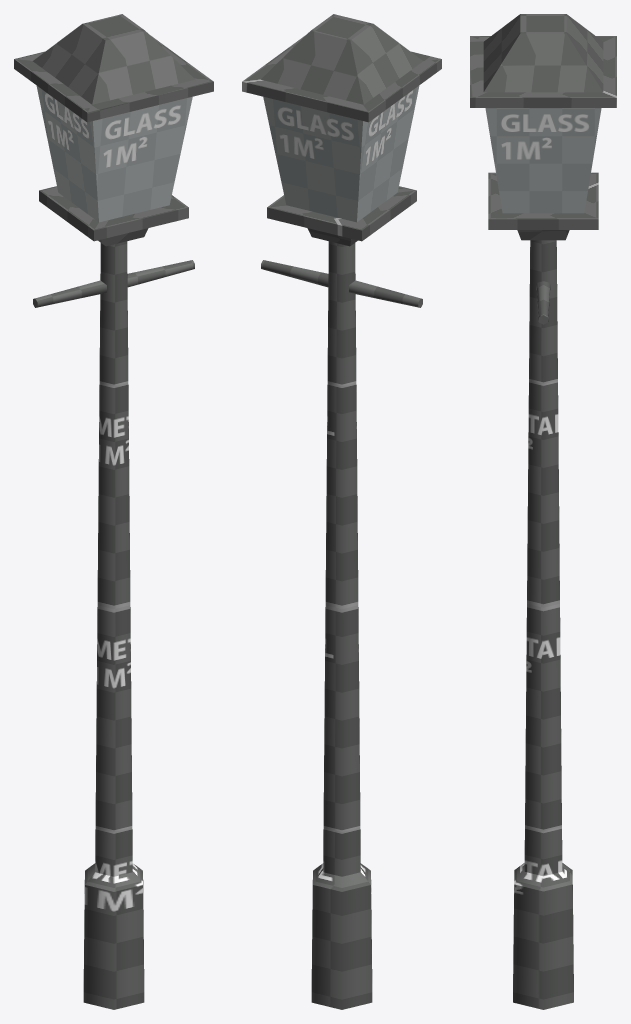
The model's file is EnglishLamp.fbx.
The picture shows the model from 3 angles, left to right: view 1: azimuth 30°, elevation 25°; view 2: azimuth 150°, elevation 25°; view 3: azimuth 270°, elevation 25°; orthographic projection.
Visible parts, largest first — view 1: EnglishLamp; view 2: EnglishLamp; view 3: EnglishLamp.
Boxes of the visible parts, left/top/right/bottom form: EnglishLamp: left=14, top=14, right=213, bottom=1009; EnglishLamp: left=242, top=14, right=441, bottom=1009; EnglishLamp: left=470, top=14, right=616, bottom=1009.
Size of the model in its own units: 69.88 by 410 by 56.2.
